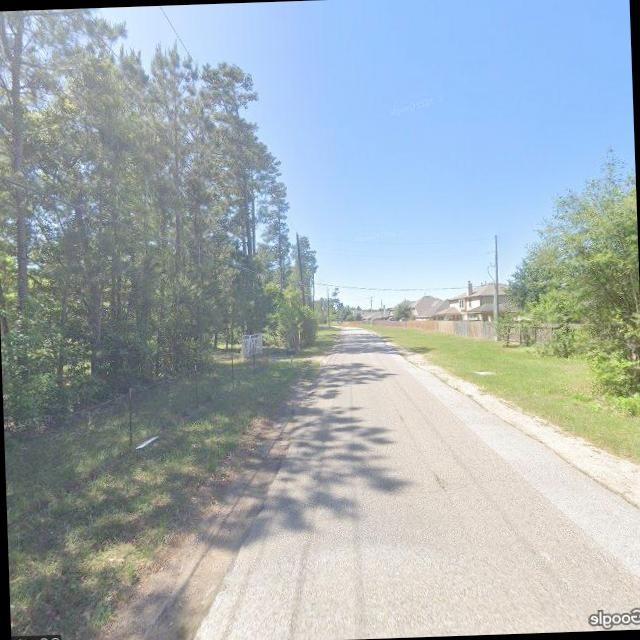crack: (330, 463, 526, 511)
